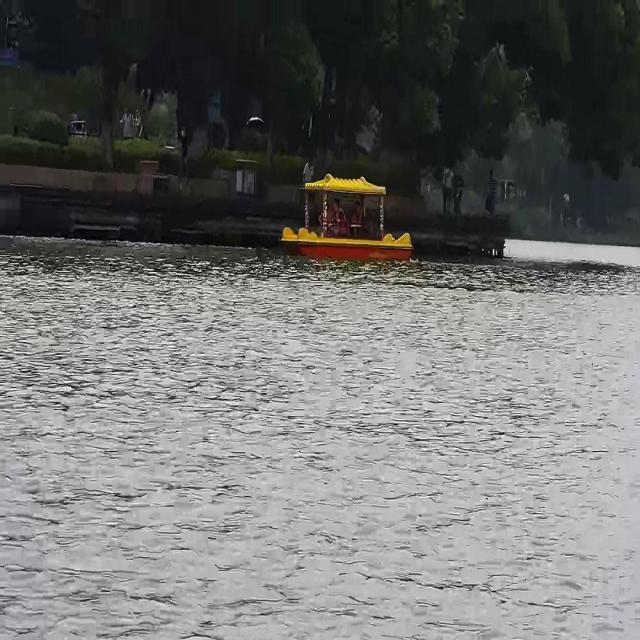CIV_Ship: (272, 170, 412, 261)
